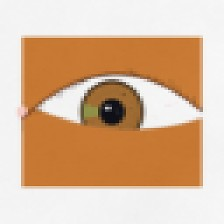pinguecula_lesion: (34, 88, 85, 129)
